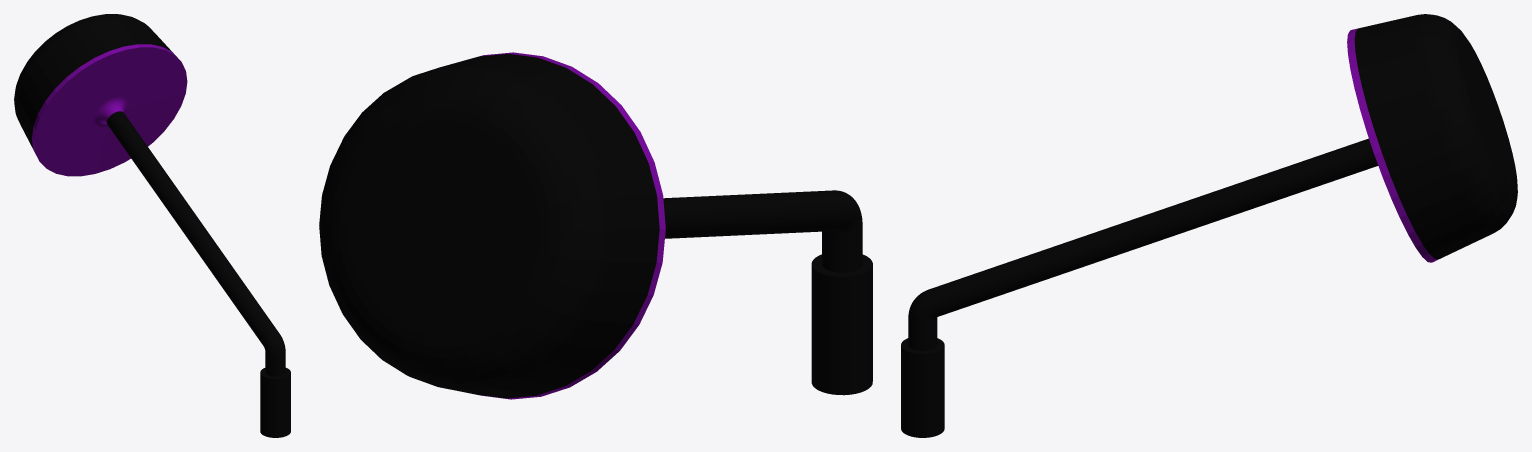
File: AntennaLevel2.fbx
The picture shows the model from 3 angles, left to right: view 1: azimuth 30°, elevation 25°; view 2: azimuth 150°, elevation 25°; view 3: azimuth 270°, elevation 25°; orthographic projection. The views are drawn at different scales.
Parts seen in each view (by area): view 1: AntennaLevel2; view 2: AntennaLevel2; view 3: AntennaLevel2.
Boxes of the visible parts, x1,y1,x2,y2 form: AntennaLevel2: [14, 14, 290, 437]; AntennaLevel2: [319, 52, 872, 399]; AntennaLevel2: [901, 14, 1517, 437].
Bounding box in the file's own units: 28.69 × 51.85 × 71.81.
